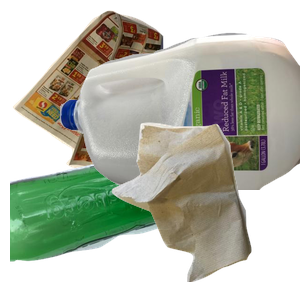glass: (10, 149, 203, 300)
paper: (10, 10, 217, 189)
plastic: (60, 30, 300, 210)
trash: (109, 120, 300, 300)
